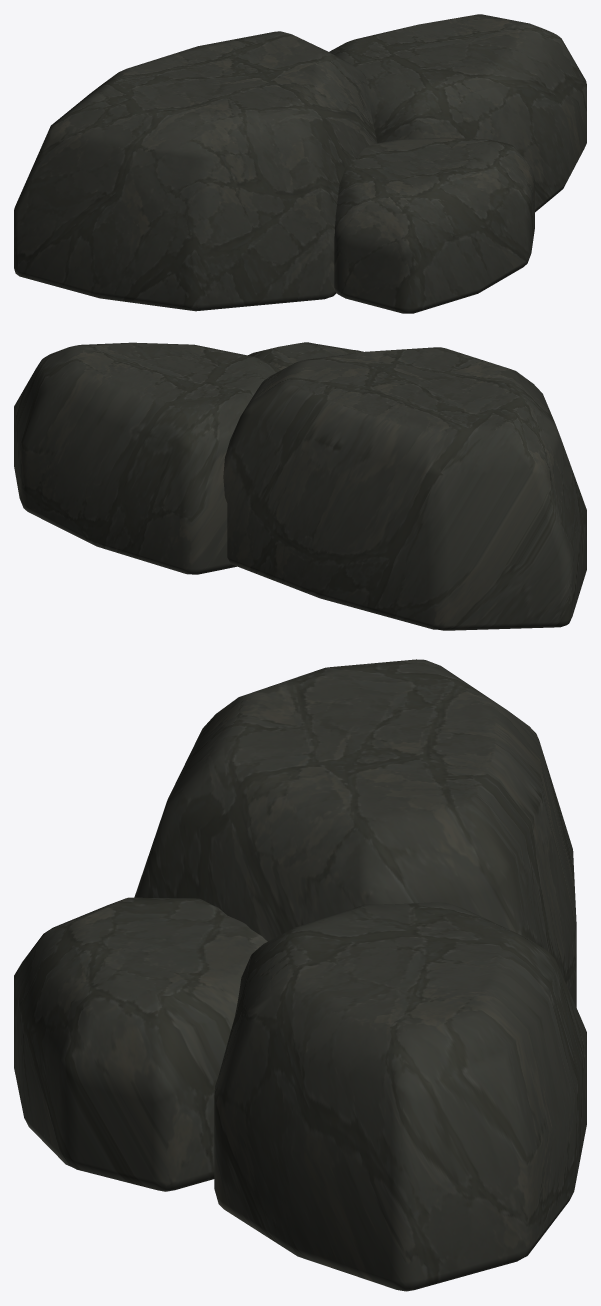
3 renders of one model, top to bottom at view 1: azimuth 30°, elevation 25°; view 2: azimuth 150°, elevation 25°; view 3: azimuth 270°, elevation 25°, orthographic. The views are drawn at different scales.
Visible parts, largest first — view 1: Rounded bank shelf, Rounded bank shelf.002, Rounded bank shelf.001; view 2: Rounded bank shelf, Rounded bank shelf.001, Rounded bank shelf.002; view 3: Rounded bank shelf.001, Rounded bank shelf, Rounded bank shelf.002.
Boxes of the visible parts, <box> form: Rounded bank shelf: <box>14,31,377,311</box>; Rounded bank shelf.002: <box>334,137,534,313</box>; Rounded bank shelf.001: <box>329,14,586,212</box>; Rounded bank shelf: <box>223,347,586,630</box>; Rounded bank shelf.001: <box>14,342,280,574</box>; Rounded bank shelf.002: <box>248,342,363,370</box>; Rounded bank shelf.001: <box>214,902,586,1291</box>; Rounded bank shelf: <box>134,659,576,1007</box>; Rounded bank shelf.002: <box>14,897,267,1191</box>.
Size of the model in its own units: 7.9 by 2.44 by 4.46.
1 material, 1 textured.
